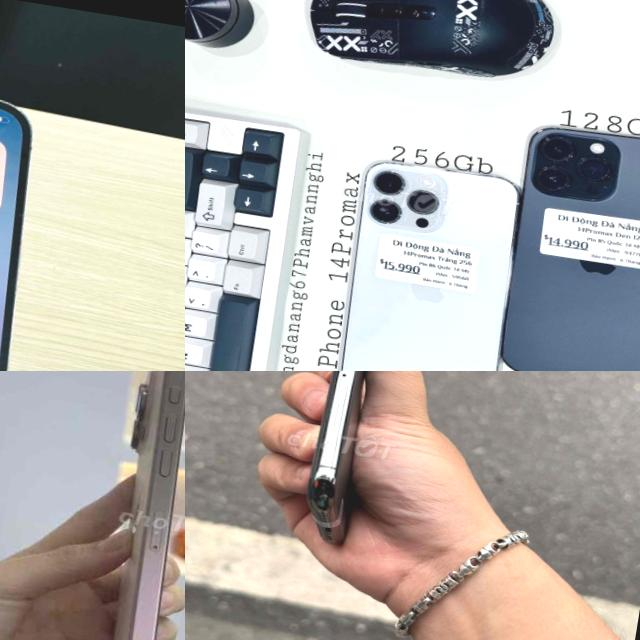gen_11: (279, 371, 417, 550)
gen_12_13: (0, 50, 70, 371)
gen_14: (314, 151, 535, 371)
gen_16: (114, 371, 185, 640)
